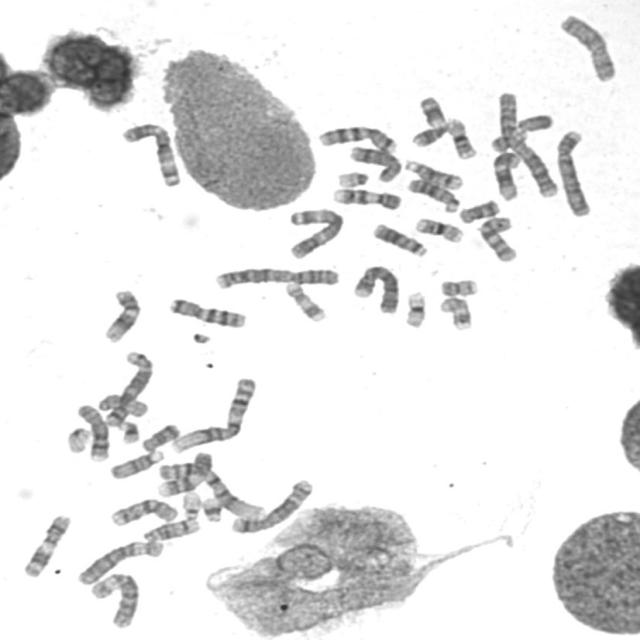A1: (166, 374, 258, 455), (154, 458, 266, 520)
A2: (494, 87, 561, 199), (210, 263, 342, 290)
A3: (118, 119, 183, 188), (284, 204, 346, 260)
B4: (552, 126, 594, 218), (351, 262, 402, 315)
B5: (228, 476, 316, 534), (100, 347, 156, 428)
C10: (106, 495, 179, 527), (475, 213, 520, 264)
C11: (19, 510, 73, 579), (408, 93, 448, 149)
C12: (100, 286, 143, 344), (489, 149, 524, 203)
C6: (74, 536, 165, 586), (86, 568, 142, 630)
C7: (165, 294, 249, 329), (314, 122, 400, 154)
C8: (74, 401, 112, 463), (347, 145, 402, 185)
C9: (154, 449, 215, 498), (328, 185, 403, 212)
D13: (370, 220, 429, 258), (404, 176, 461, 214)
D14: (401, 157, 465, 191), (140, 516, 202, 543)
D15: (107, 448, 166, 480), (94, 390, 150, 419)
E16: (444, 114, 479, 161), (412, 215, 466, 244)
E17: (282, 279, 329, 324), (437, 294, 474, 332)
E18: (138, 421, 182, 453), (456, 197, 501, 224)
F19: (402, 288, 428, 329), (64, 424, 93, 454)
F20: (488, 127, 530, 153), (438, 276, 480, 298)
G21: (198, 494, 224, 524), (116, 418, 142, 445)
G22: (178, 488, 203, 522), (334, 169, 370, 188)
X: (556, 11, 619, 84)
Y: (514, 112, 554, 134)
